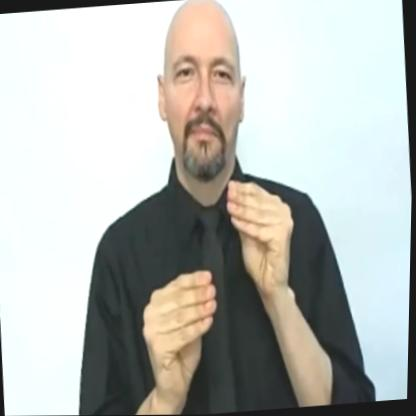Fix: (127, 170, 311, 379)
